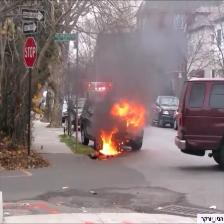fire: (113, 35, 171, 99), (101, 105, 142, 155)
